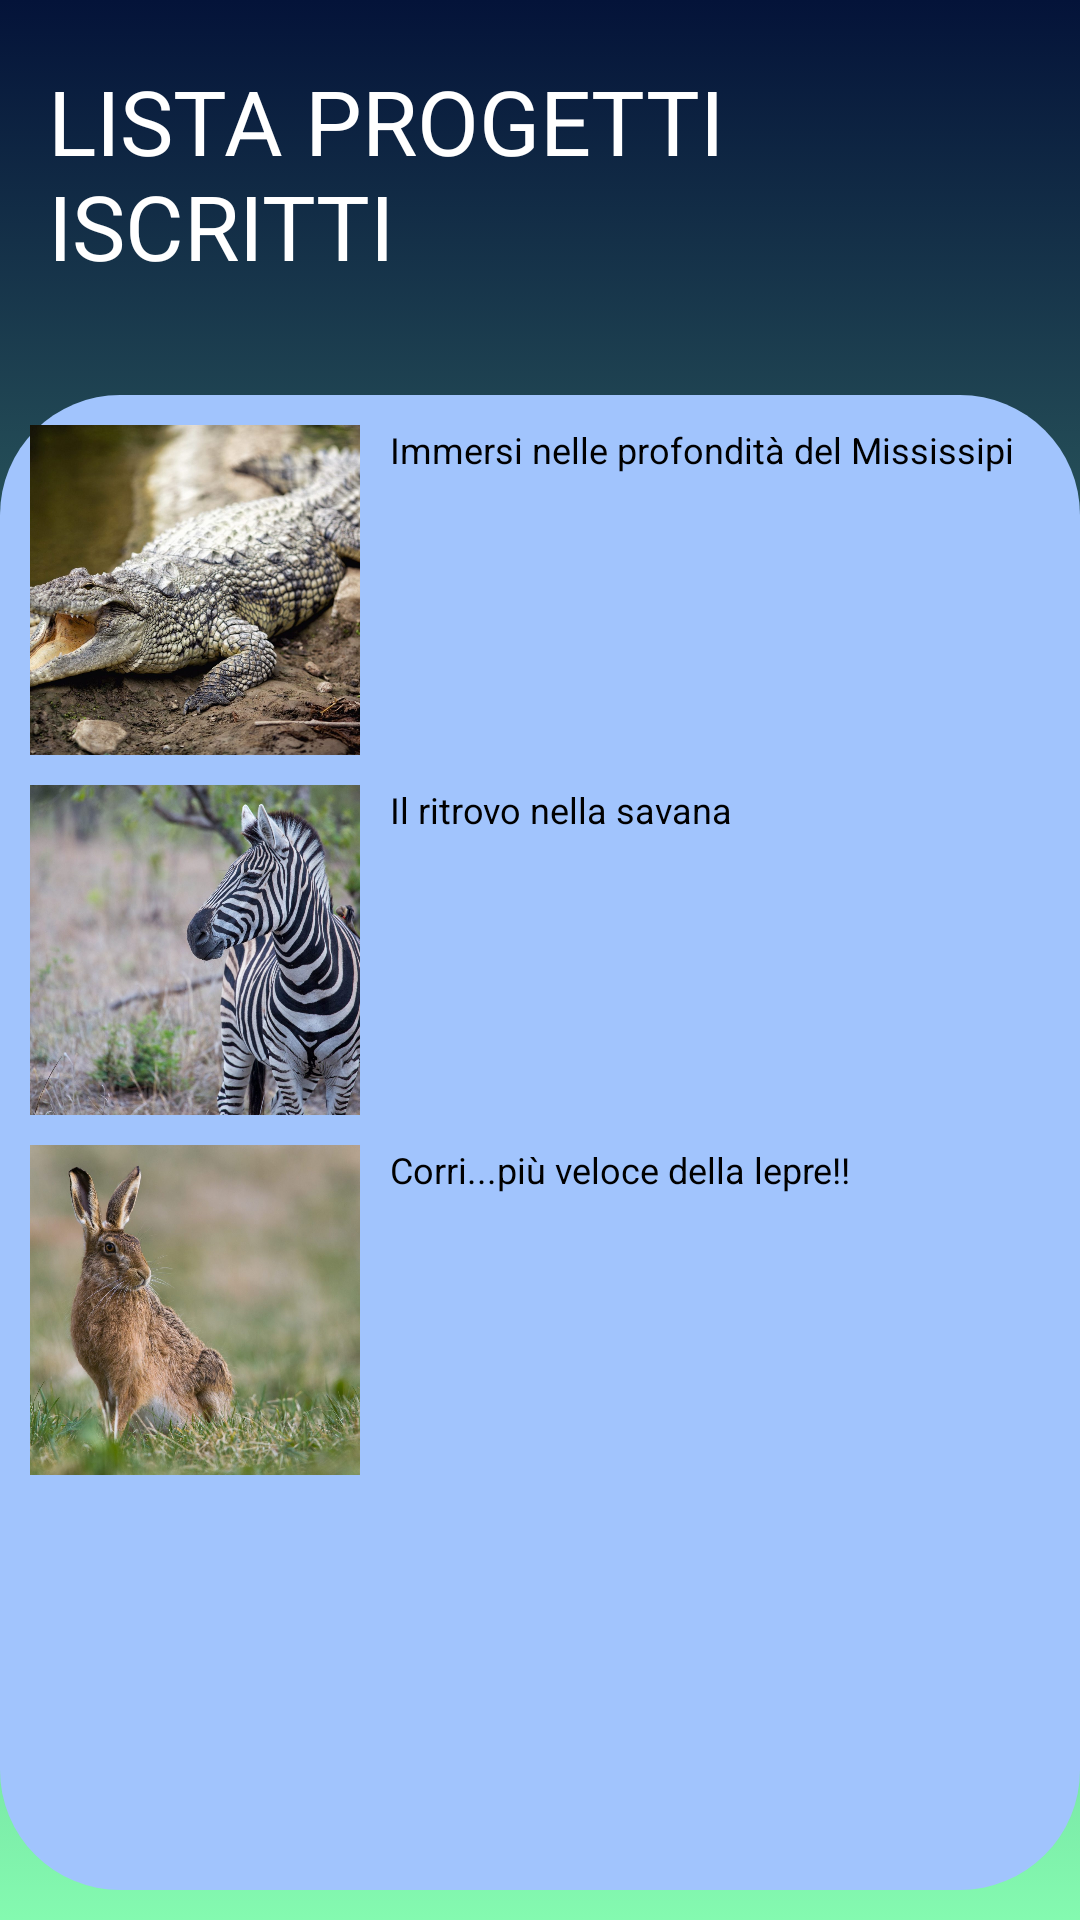

Screen size 1080x1920. Icon name, then its center in pixels as (x,y):
alligatmissisi: (195,590)
zebra: (195,950)
